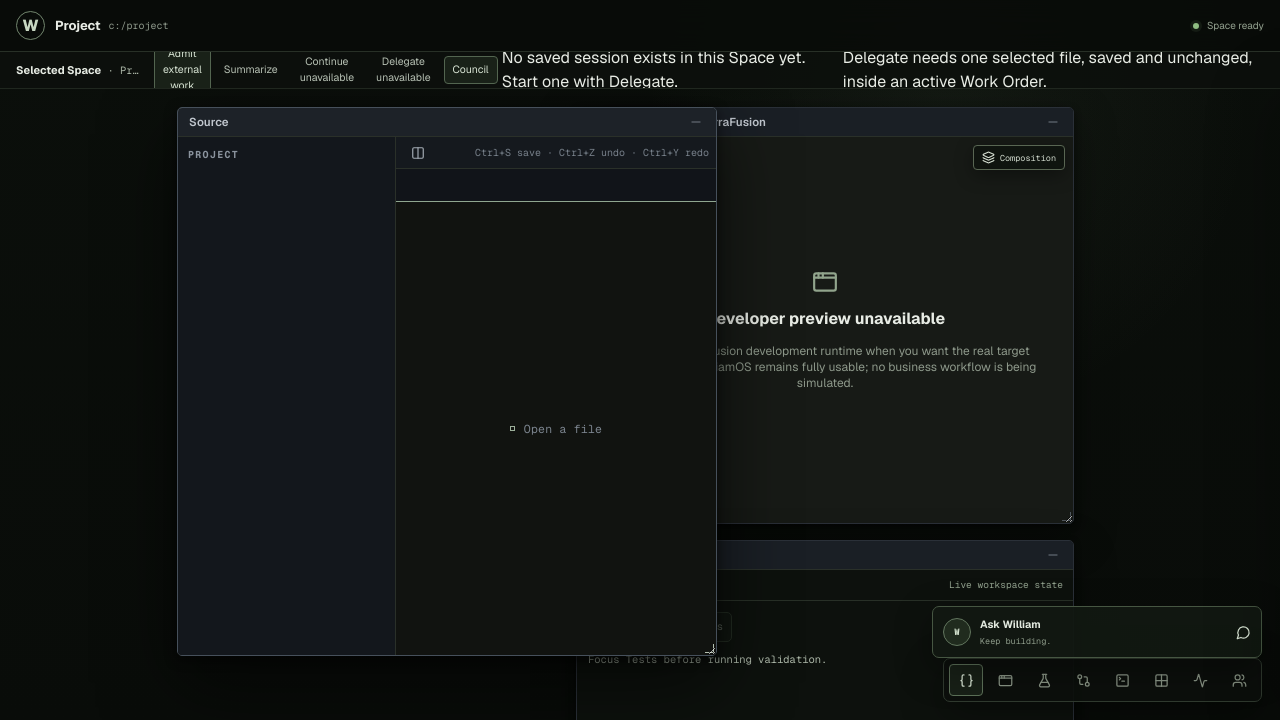
it: Experience V2 multi-Space re-entry › exact-verifies an opaque last-selected hint before restoring B
Click the button named "Open Mission Control" at (1161, 680), box [1144, 664, 1178, 696]
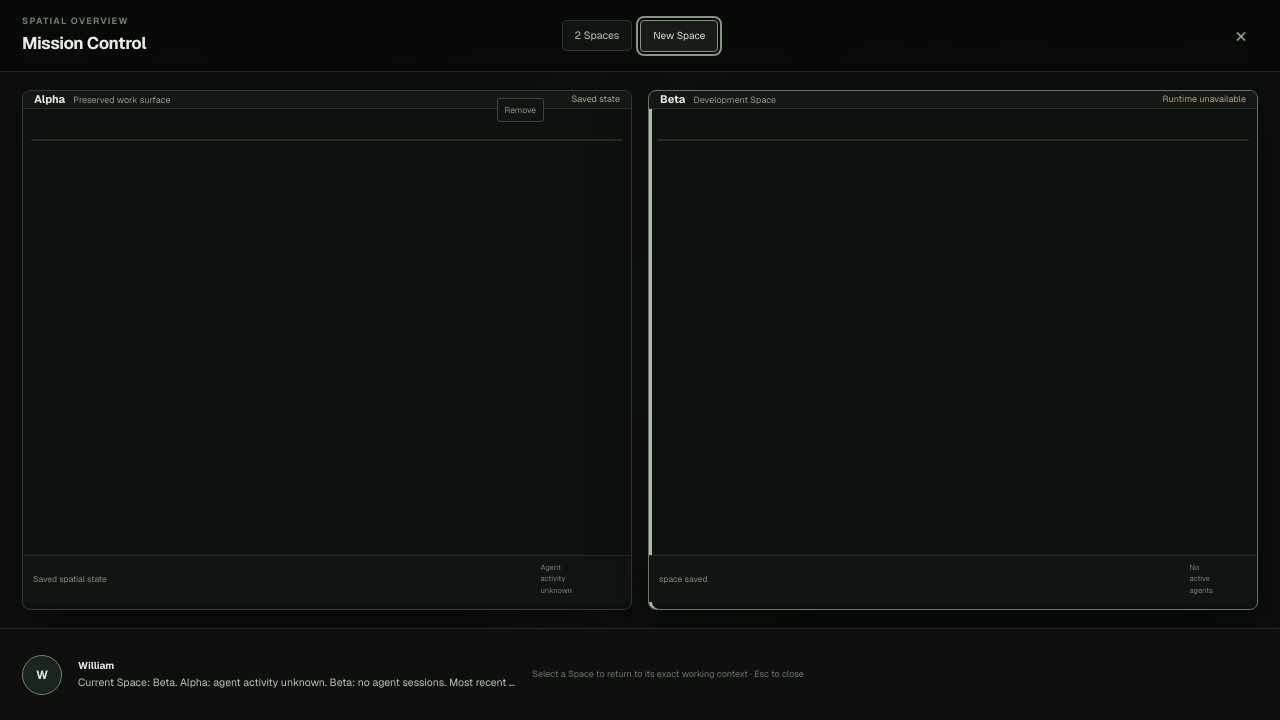
Result: the button with aria-label "Enter Beta, current Space" is shown at [648, 90, 1258, 610]
